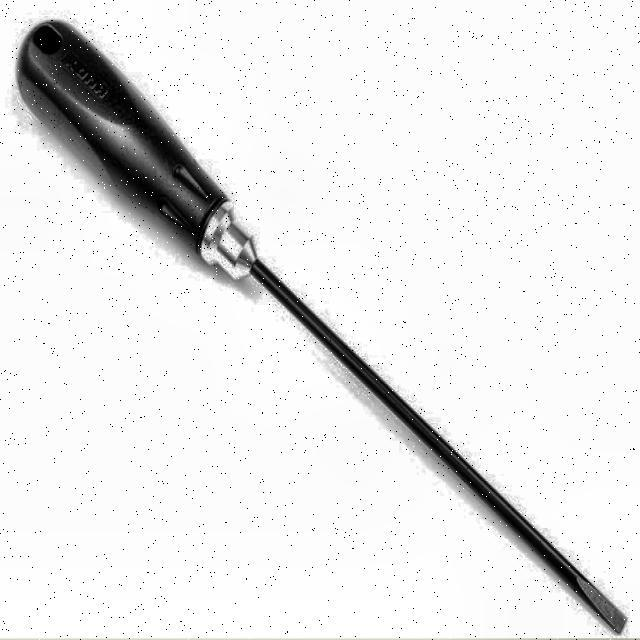screwdriver: (17, 19, 628, 634)
